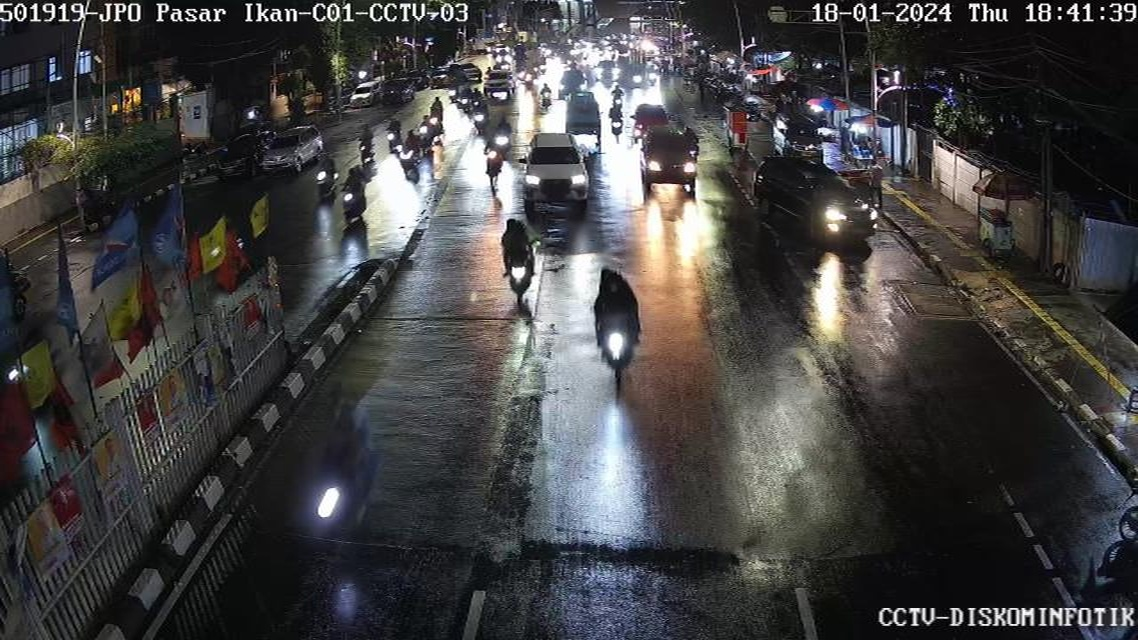Gerobak: (713, 101, 757, 163)
